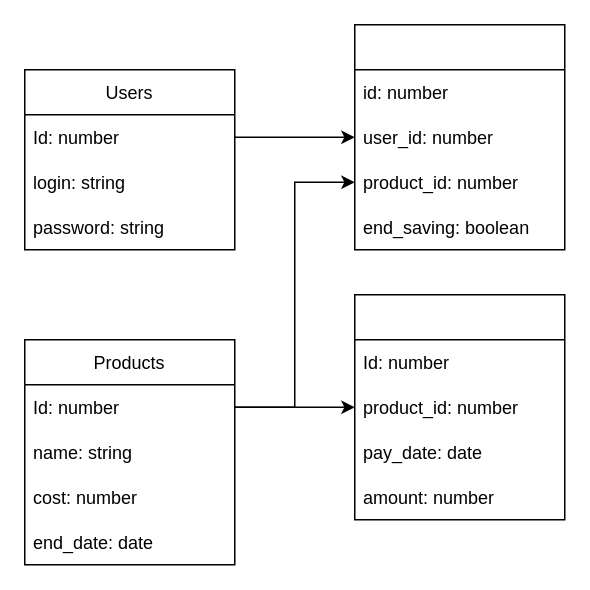
Image size: 590x590. Some labels were removed from this diagram. Each missing label, with the box of its shape:
Payments: (353, 293, 565, 520)
Savings: (353, 23, 565, 250)
